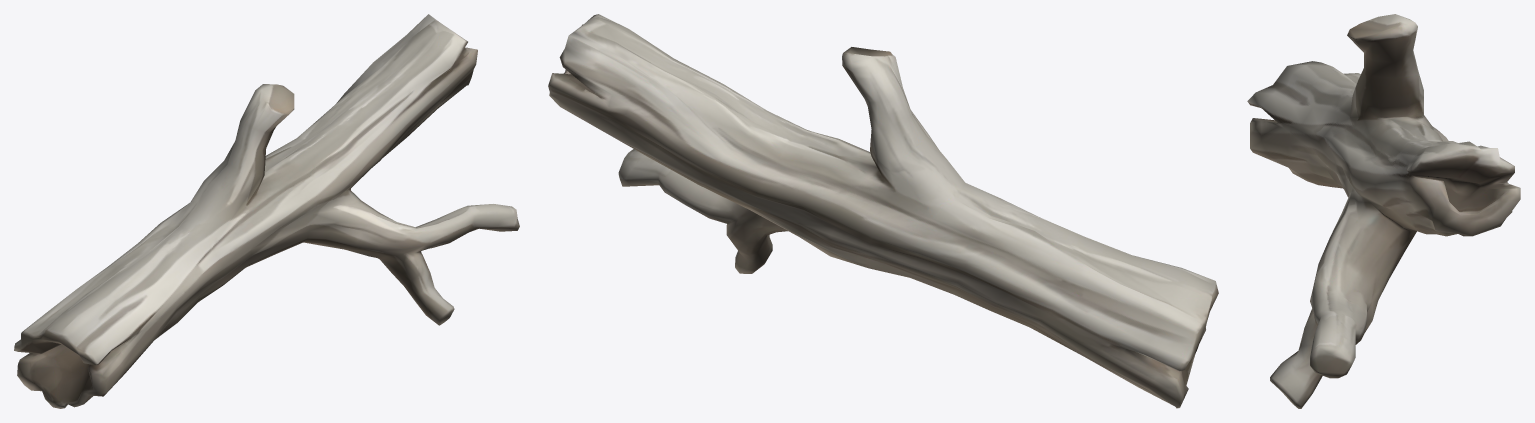
3 views of the same model, side by side, from view 1: azimuth 30°, elevation 25°; view 2: azimuth 150°, elevation 25°; view 3: azimuth 270°, elevation 25° (orthographic). The views are drawn at different scales.
Visible parts, largest first — view 1: coast-driftwood; view 2: coast-driftwood; view 3: coast-driftwood.
Part boxes in pixels (<box>): coast-driftwood: <box>14,14,519,408</box>; coast-driftwood: <box>548,14,1218,408</box>; coast-driftwood: <box>1247,14,1520,408</box>.
Size of the model in its own units: 0.4853 by 0.2368 by 0.1879.
Materials: 1 (1 with a texture image).
